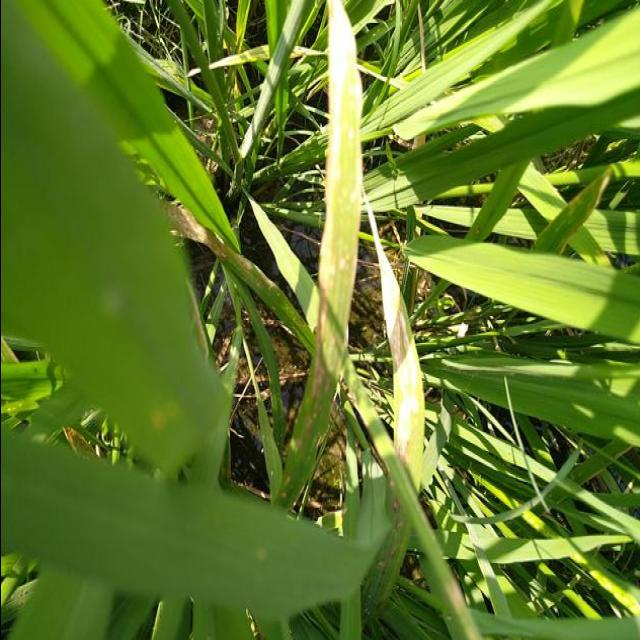Leaf Streak: (284, 0, 362, 479), (161, 196, 312, 350), (364, 194, 424, 494), (359, 481, 407, 628), (534, 167, 610, 255)
